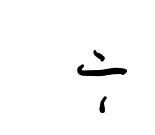div: (77, 50, 127, 113)
